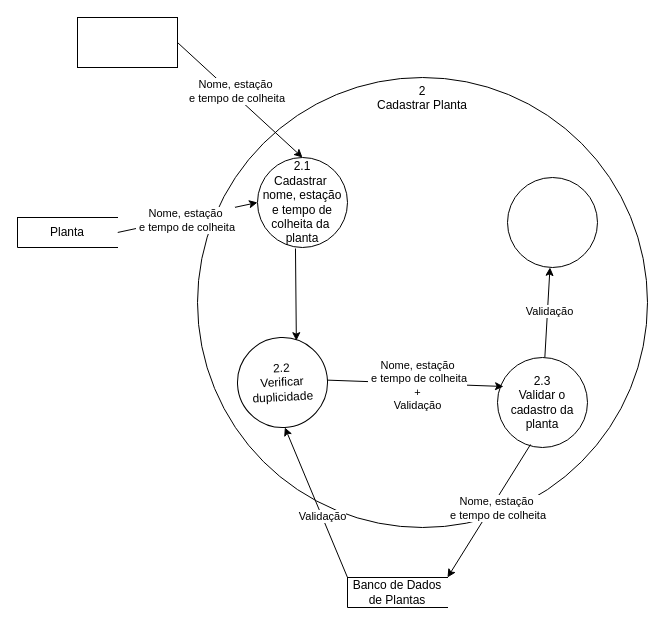
This 665x625 diagram has some shape labels left out. Here are the shapes that lost their labels. From the top down, the centre of each, then its label:
At pixel 127 42: "Admnistrador".
At pixel 552 222: "2.4 Confirmar na tela o cadastro da nova planta".
